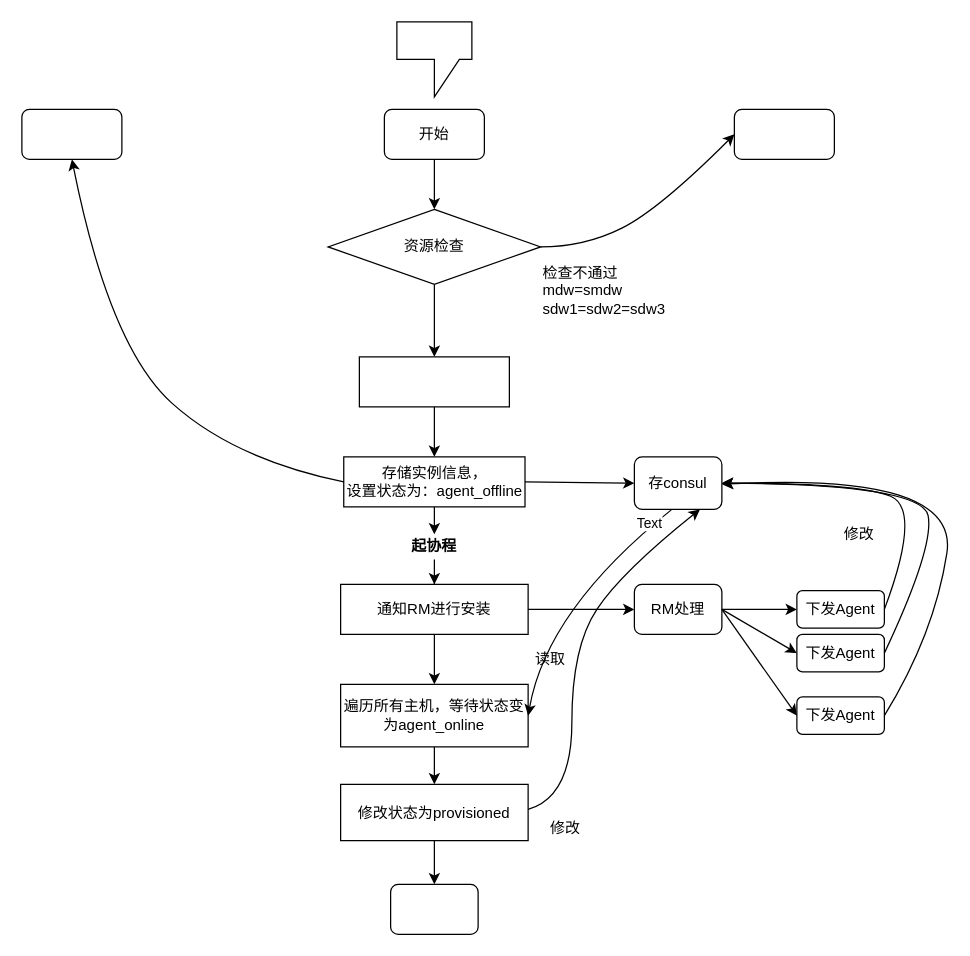
This 970x956 diagram has some shape labels left out. The centre of each missing label's shape, as x and y in pixels:
"创建失败" goes at (x=783, y=133).
"创建实例ID" goes at (x=433, y=381).
"创建成功，返回实例ID" goes at (x=71, y=133).
"处理结束" goes at (x=433, y=908).
"实例创建" goes at (x=434, y=59).
